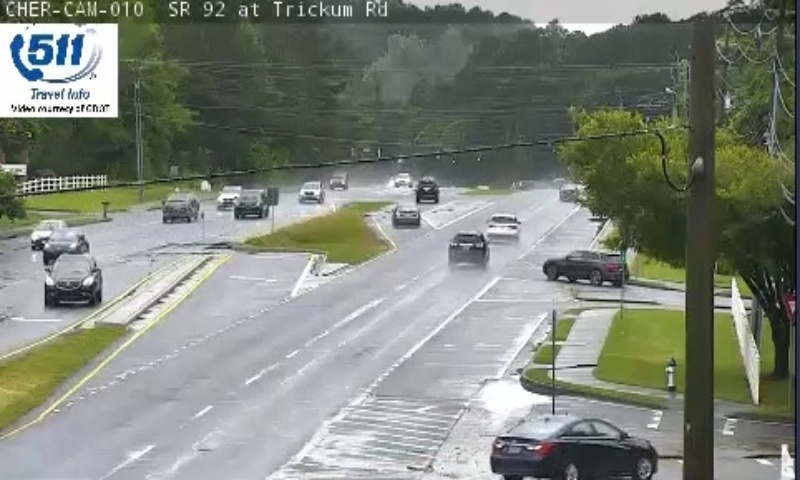car: (448, 232, 486, 263), (486, 212, 519, 240), (395, 205, 419, 227)
